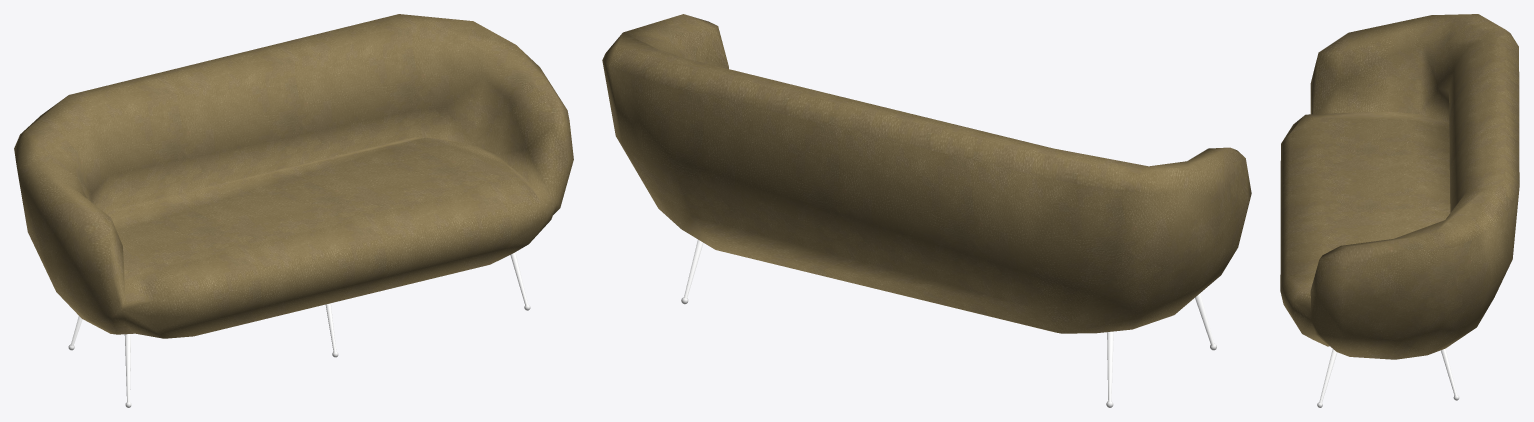
Rendered from sofa_kelly.glb.
3 renders of one model, left to right at view 1: azimuth 30°, elevation 25°; view 2: azimuth 150°, elevation 25°; view 3: azimuth 270°, elevation 25°, orthographic. The views are drawn at different scales.
Parts seen in each view (by area): view 1: Sofa_body, Legs; view 2: Sofa_body, Legs; view 3: Sofa_body, Legs.
Boxes of the visible parts, x1,y1,x2,y2 form: Sofa_body: (14,14,573,338); Legs: (68,252,530,407); Sofa_body: (602,14,1251,333); Legs: (681,239,1216,407); Sofa_body: (1280,14,1519,359); Legs: (1317,348,1459,407).
Bounding box in the file's own units: 1.87 × 0.8164 × 0.8221.
2 materials, 1 textured.
